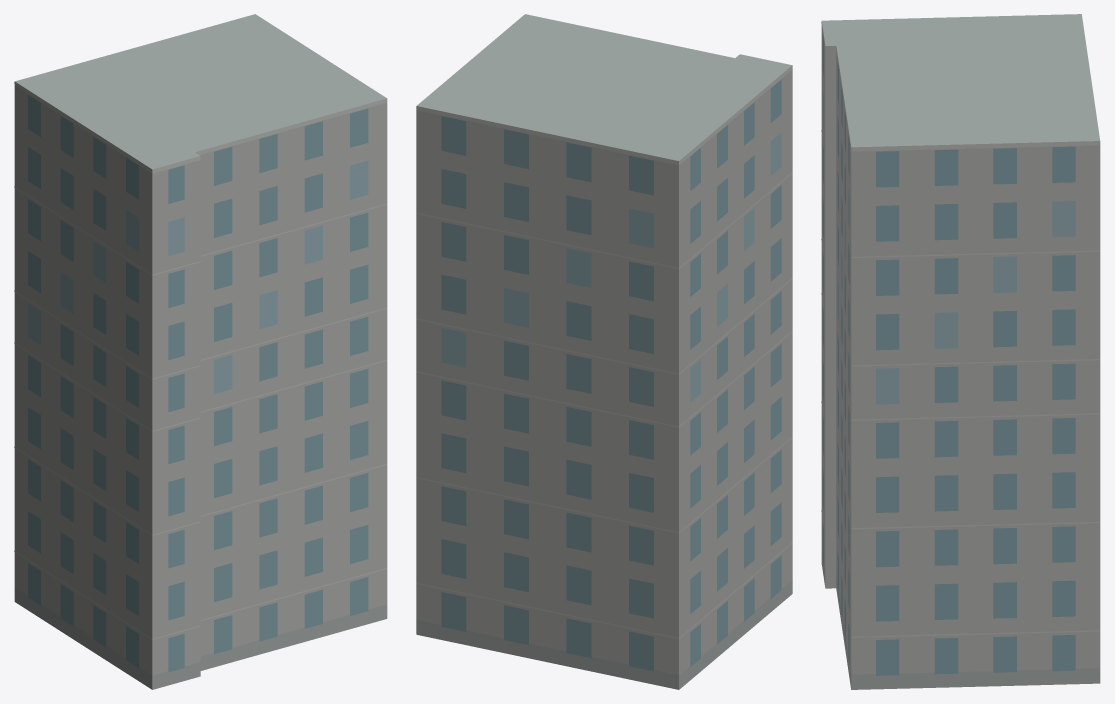
File: survey-upis-32682546.glb
3 views of the same model, side by side, from view 1: azimuth 30°, elevation 25°; view 2: azimuth 150°, elevation 25°; view 3: azimuth 270°, elevation 25° (orthographic). The views are drawn at different scales.
Visible parts, largest first — view 1: survey-upis-32682546.tmp; view 2: survey-upis-32682546.tmp; view 3: survey-upis-32682546.tmp.
Part boxes in pixels (<box>): survey-upis-32682546.tmp: <box>14,14,387,689</box>; survey-upis-32682546.tmp: <box>416,14,792,689</box>; survey-upis-32682546.tmp: <box>821,14,1100,689</box>.
Size of the model in its own units: 15.78 by 29.9 by 13.94.
